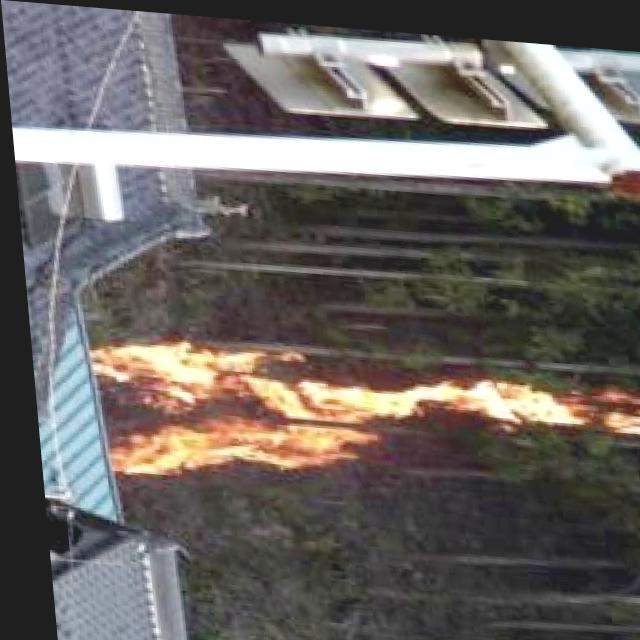Fire: (85, 329, 640, 508)
